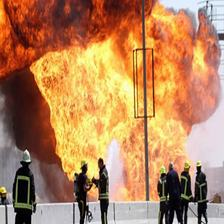fire: (6, 4, 25, 26)
